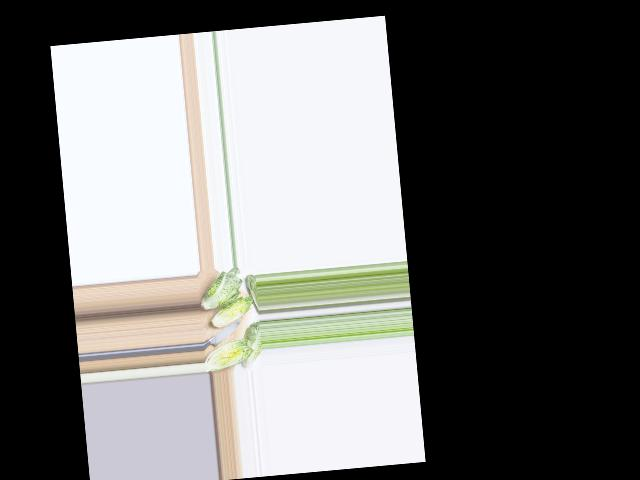lettuce: (239, 322, 261, 367)
